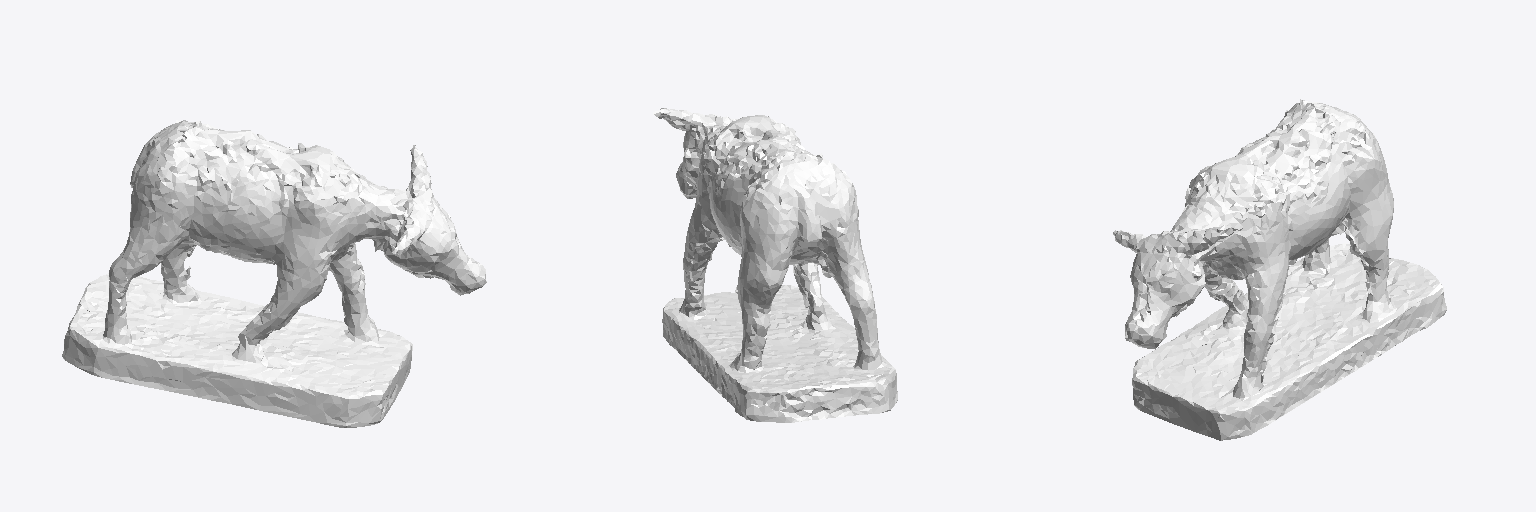
File: yellow_buffalo_mm-10-2048.obj
The picture shows the model from 3 angles: view 1: azimuth 30°, elevation 25°; view 2: azimuth 150°, elevation 25°; view 3: azimuth 270°, elevation 25°; orthographic projection.
Bounding box in the file's own units: 6.67 × 5.17 × 6.16.